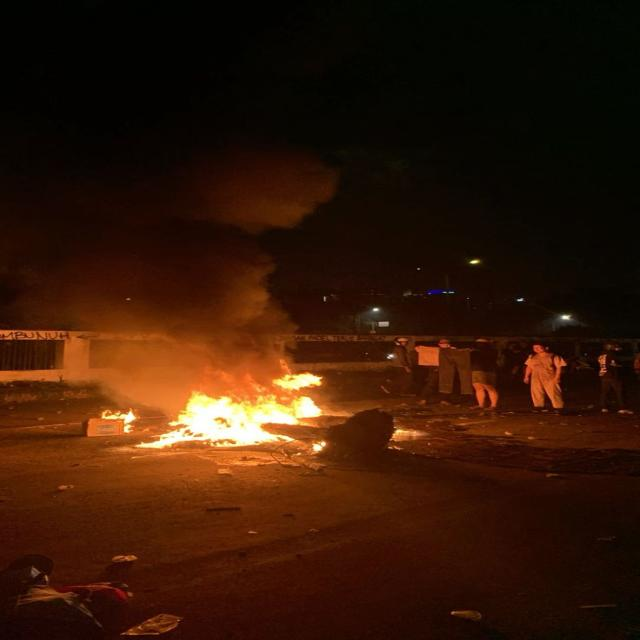fire: (138, 394, 326, 452)
